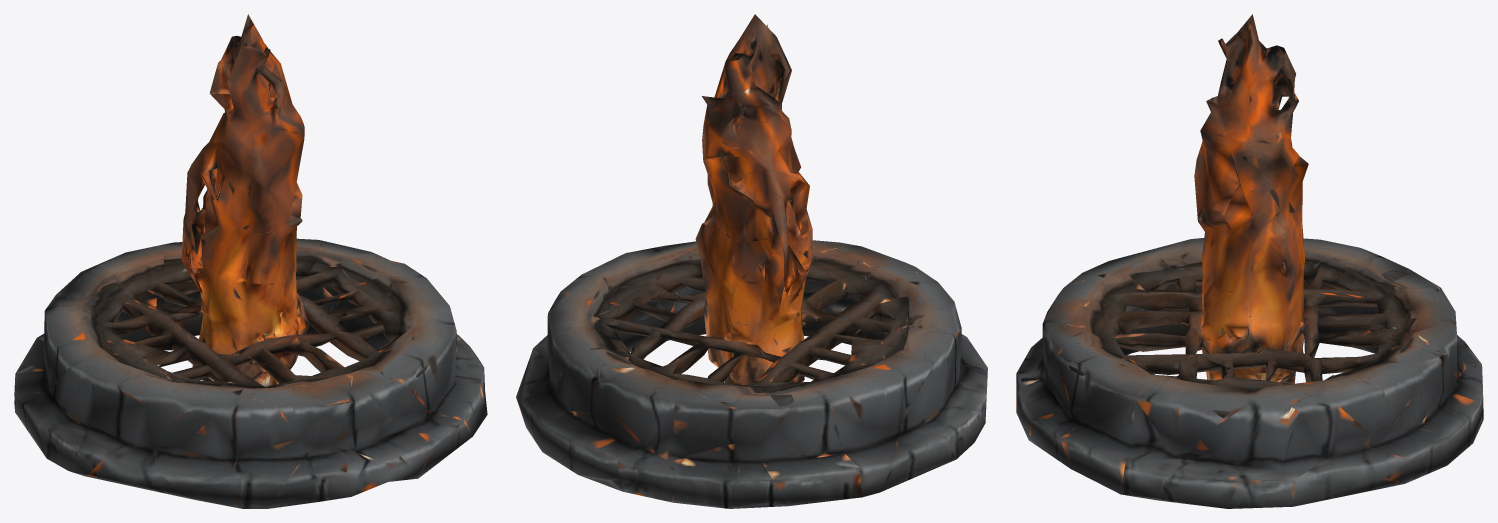
Rendered from fire_vent.glb.
3 views of the same model, side by side, from view 1: azimuth 30°, elevation 25°; view 2: azimuth 150°, elevation 25°; view 3: azimuth 270°, elevation 25° (orthographic).
Size of the model in its own units: 1.98 by 1.87 by 1.98.
Materials: 1 (1 with a texture image).
